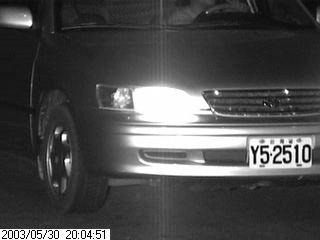plate: (245, 133, 313, 170)
